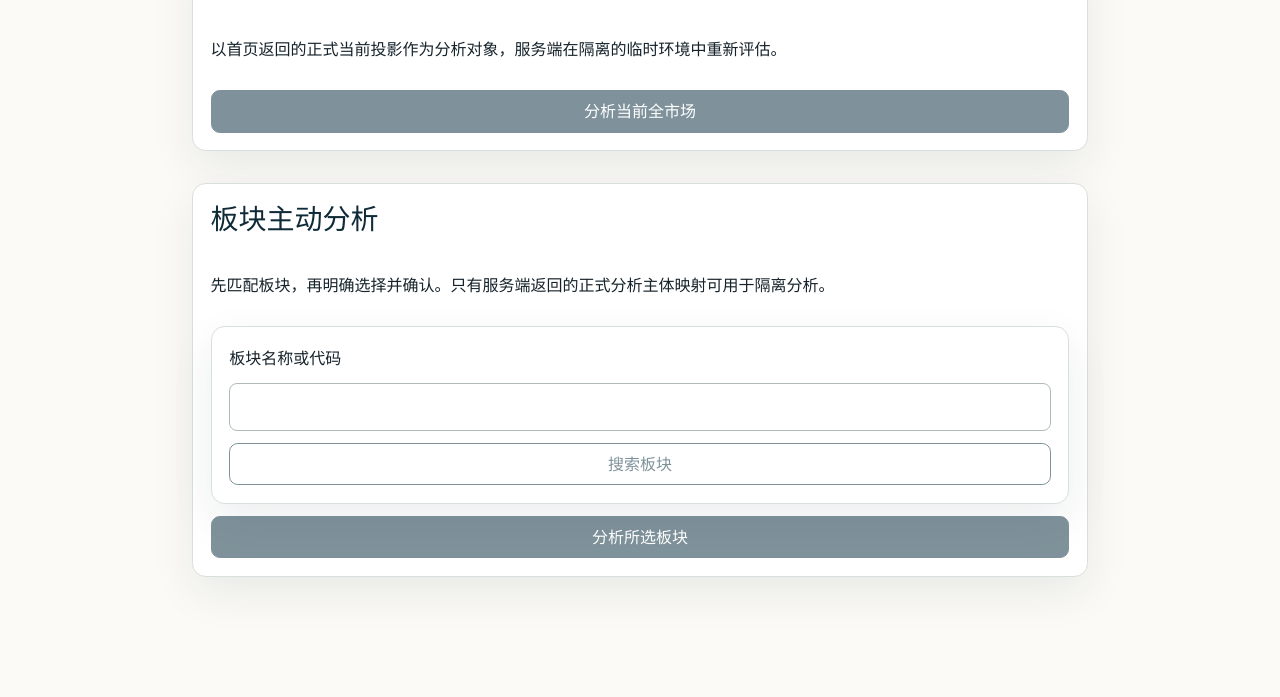
isolated active analysis › reuses the key for an uncertain retry of the same canonical subject
This screenshot has width=1280, height=697.
(page scrolled)
Step 1. Type "半导体" into the field labelled "板块名称或代码" → (640, 407), box [229,384,1051,431]
(page scrolled)
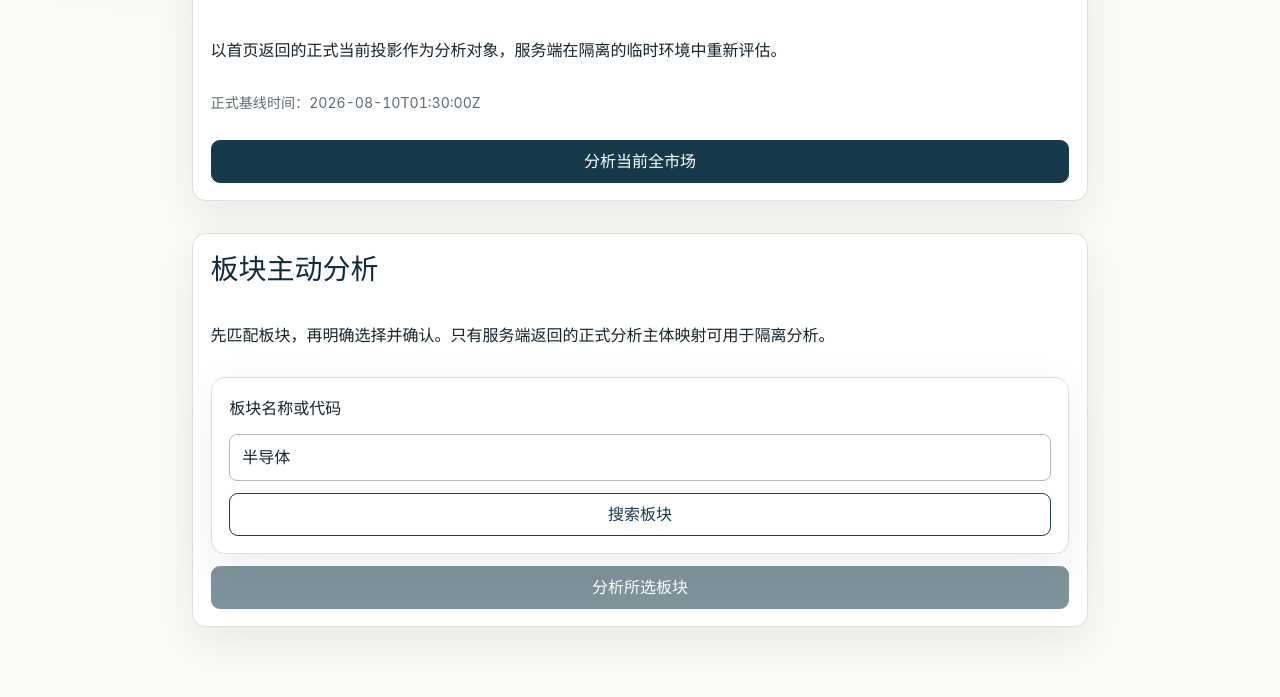
Step 2. Click the button "搜索板块" → (640, 514), box [229,493,1051,536]
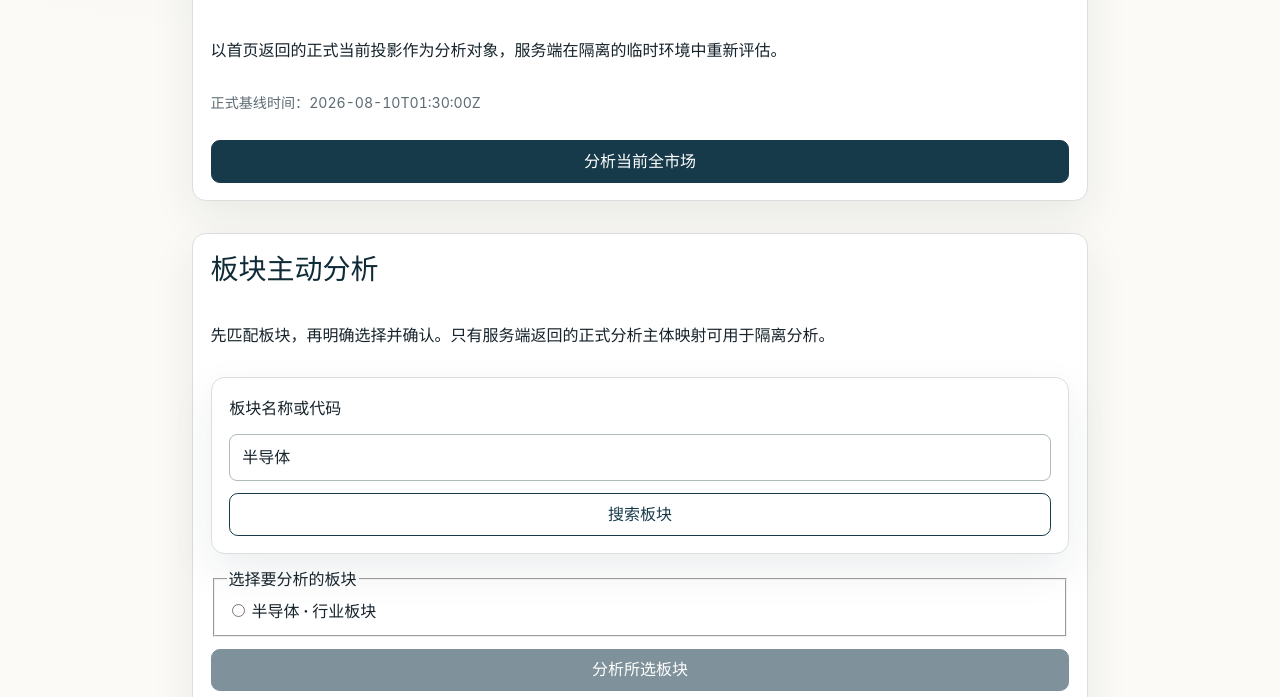
Step 3. Click the radio button labelled "半导体 · 行业板块" → (238, 611), box [232,604,245,617]
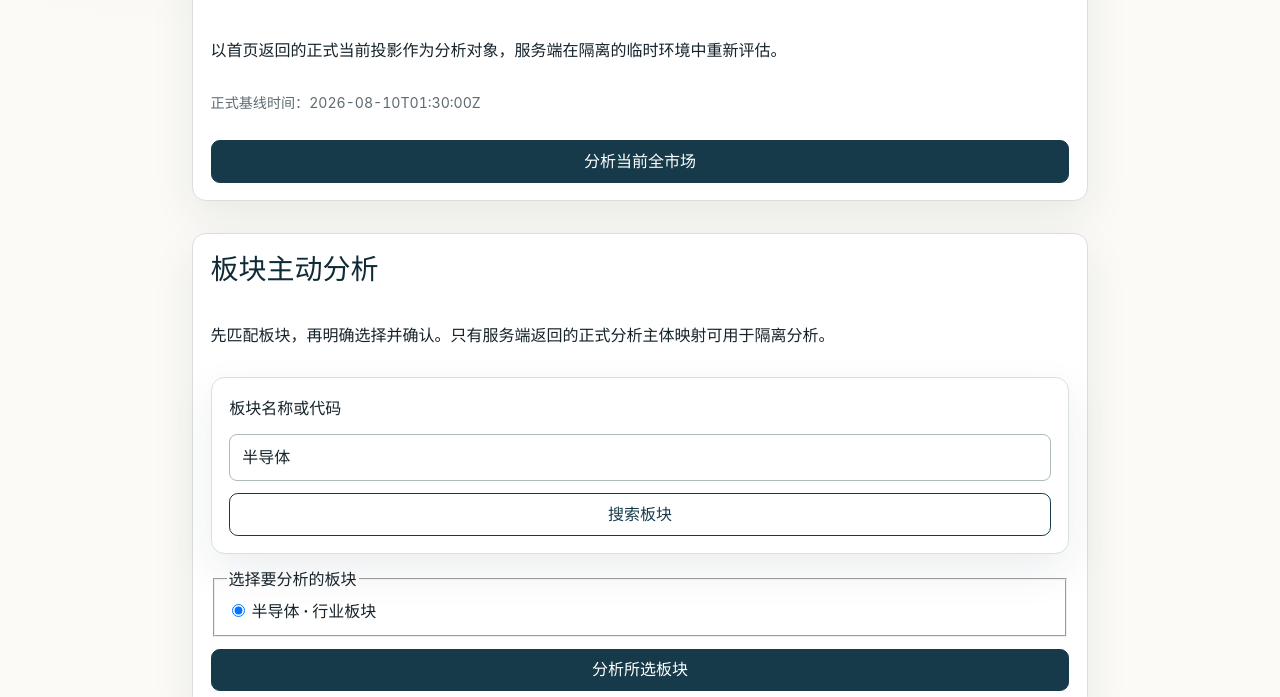
Step 4. Click the button "分析所选板块" → (640, 670), box [211,648,1069,691]
(page scrolled)
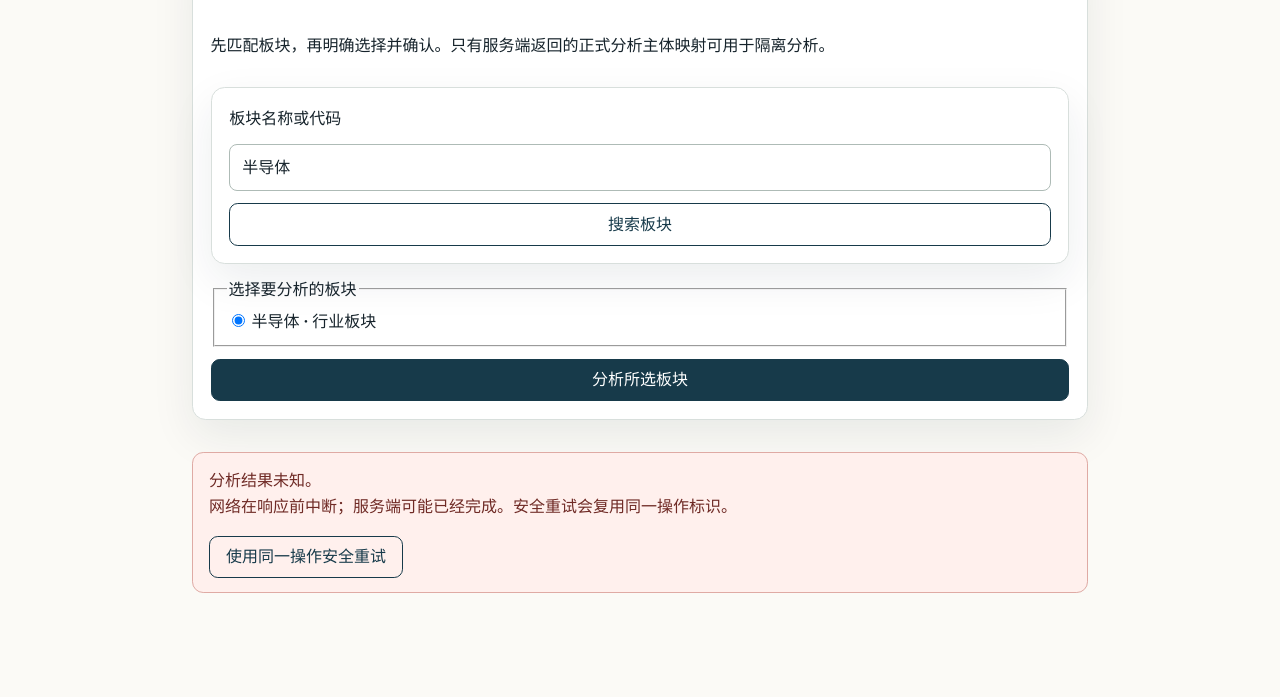
Expected: the message shows "分析结果未知", [209,470,321,490]
Step 5. Click the button "使用同一操作安全重试" → (306, 557), box [209,536,403,578]
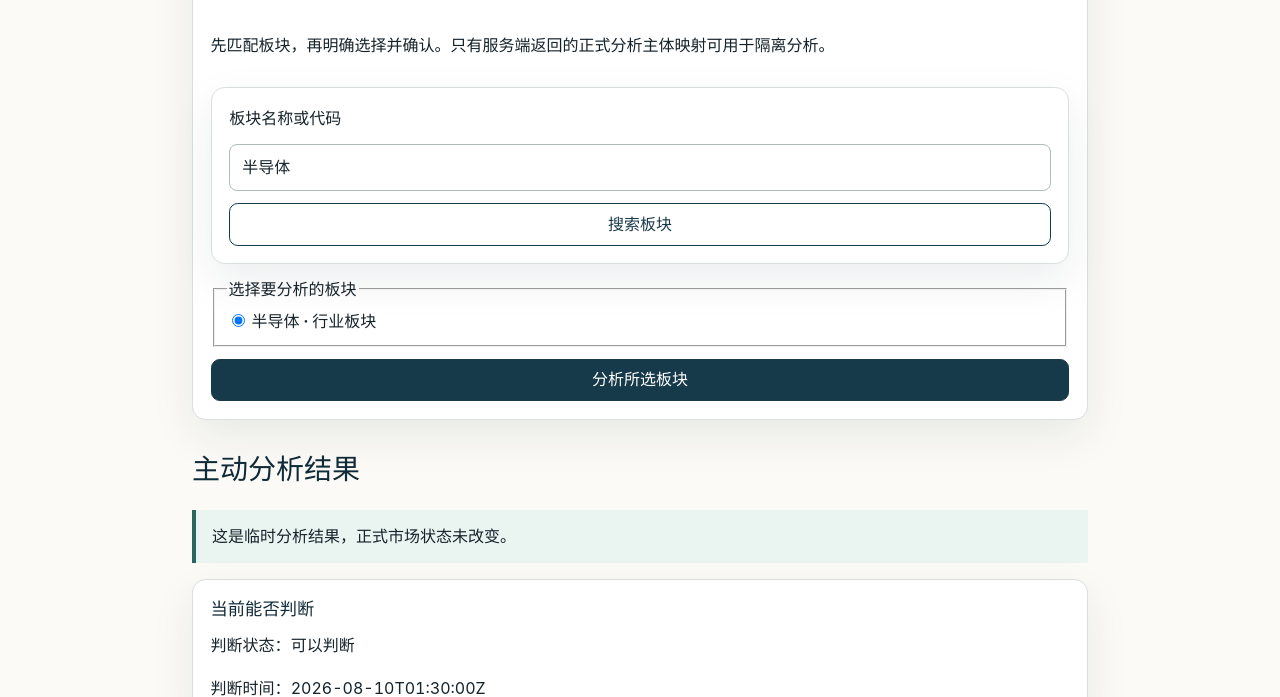
Expected: the text "这是临时分析结果，正式市场状态未改变。" is shown, [192,510,1088,563]
